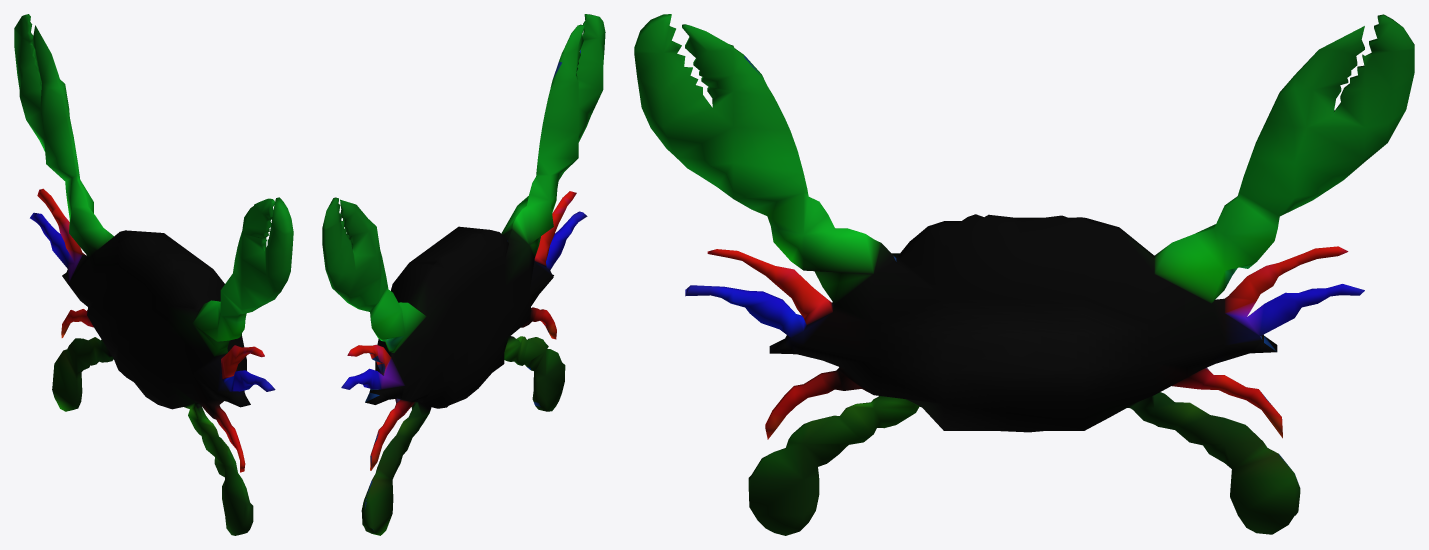
Rendered from crab14.fbx.
3 views of the same model, side by side, from view 1: azimuth 30°, elevation 25°; view 2: azimuth 150°, elevation 25°; view 3: azimuth 270°, elevation 25° (orthographic). The views are drawn at different scales.
Visible parts, largest first — view 1: 8b5fcca9-0bd1-453d-b090-de07f664e9b1; view 2: 8b5fcca9-0bd1-453d-b090-de07f664e9b1; view 3: 8b5fcca9-0bd1-453d-b090-de07f664e9b1.
Part boxes in pixels (x1=…): 8b5fcca9-0bd1-453d-b090-de07f664e9b1: x1=14, y1=14, x2=293, y2=535; 8b5fcca9-0bd1-453d-b090-de07f664e9b1: x1=322, y1=14, x2=605, y2=535; 8b5fcca9-0bd1-453d-b090-de07f664e9b1: x1=634, y1=14, x2=1414, y2=535.
Bounding box in the file's own units: 0.1719 × 0.9065 × 1.24.
